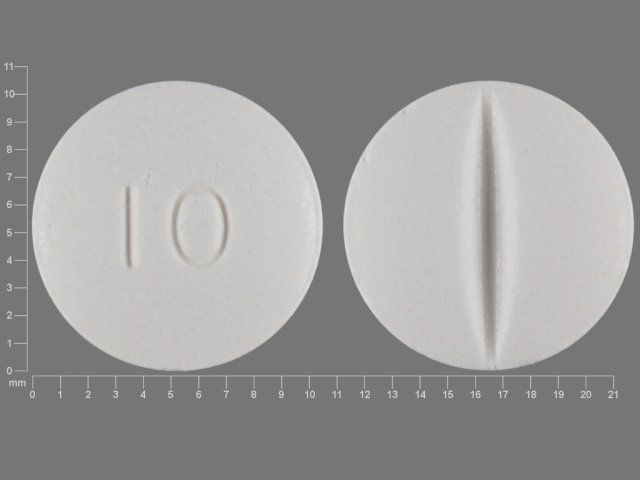0: (164, 179, 235, 275)
1: (110, 170, 151, 276)
|: (470, 71, 514, 374)
